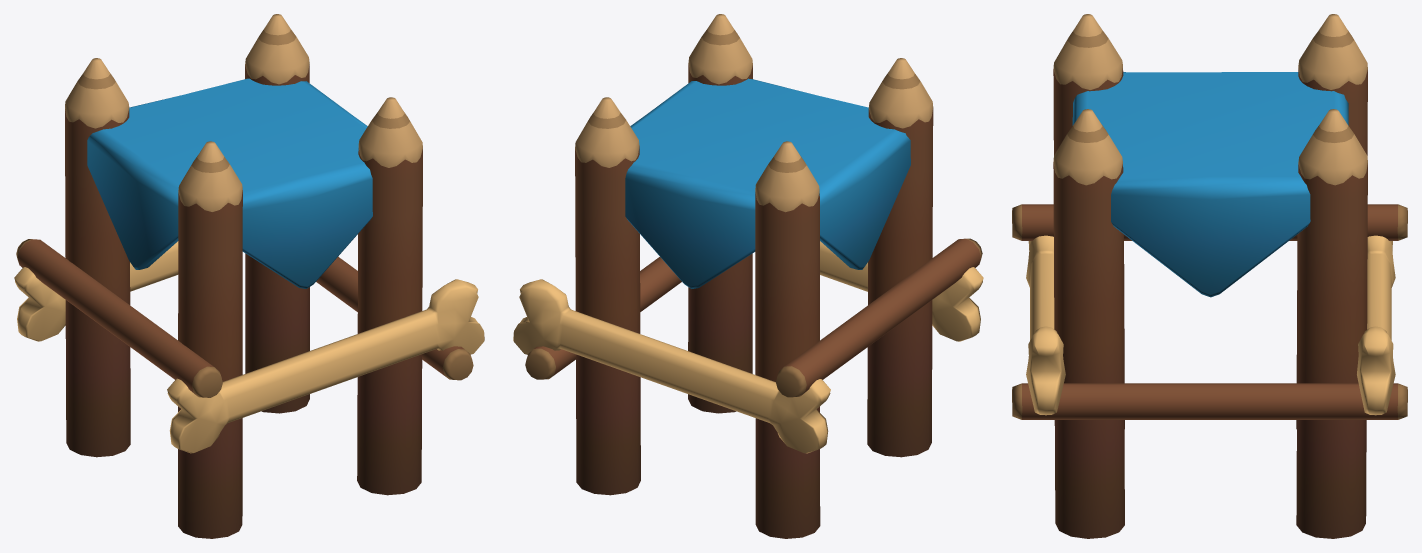
File: Stage_2.fbx
3 renders of one model, left to right at view 1: azimuth 30°, elevation 25°; view 2: azimuth 150°, elevation 25°; view 3: azimuth 270°, elevation 25°, orthographic. The views are drawn at different scales.
Visible parts, largest first — view 1: Stage_2; view 2: Stage_2; view 3: Stage_2.
Boxes of the visible parts, x1,y1,x2,y2 form: Stage_2: (14,14,484,538); Stage_2: (513,14,983,538); Stage_2: (1012,14,1407,538).
Bounding box in the file's own units: 142 × 167 × 145.
